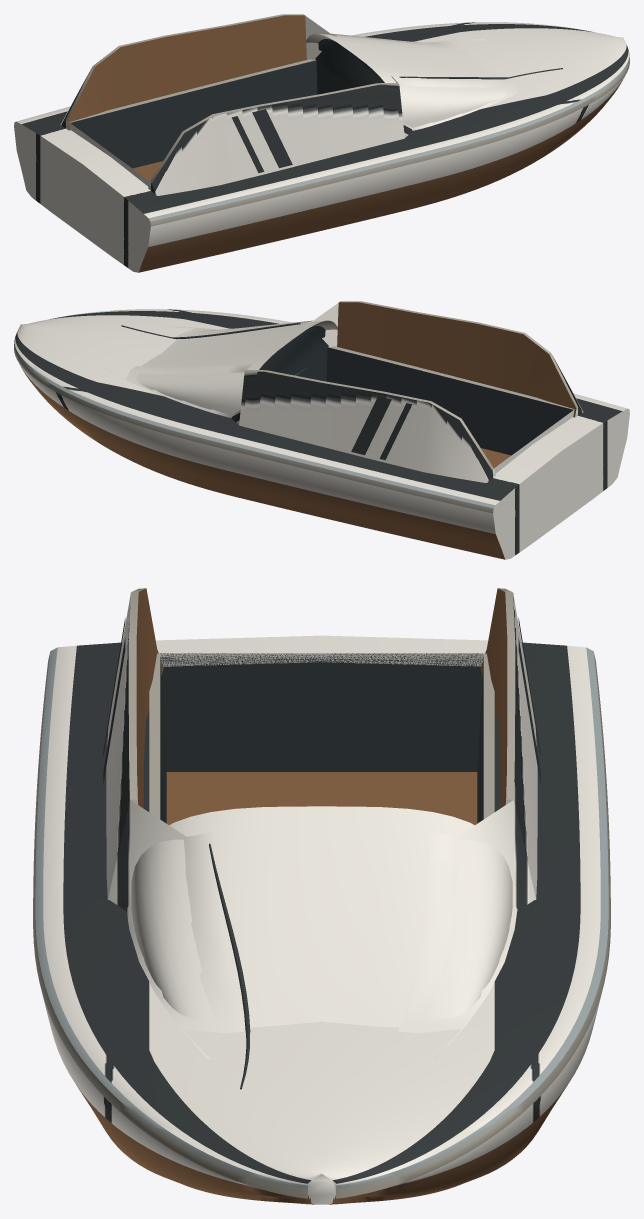
Rendered from Hull_04_N_白鉛・細墨.glb.
3 views of the same model, one above another, from view 1: azimuth 30°, elevation 25°; view 2: azimuth 150°, elevation 25°; view 3: azimuth 270°, elevation 25° (orthographic). The views are drawn at different scales.
Parts seen in each view (by area): view 1: Hull_04_N; view 2: Hull_04_N; view 3: Hull_04_N.
Part boxes in pixels (bbox=[...]): Hull_04_N: bbox=[14, 14, 629, 272]; Hull_04_N: bbox=[14, 301, 629, 559]; Hull_04_N: bbox=[33, 588, 610, 1204].
Bounding box in the file's own units: 2.9 × 0.6856 × 1.34.
Materials: 4 (4 with a texture image).
